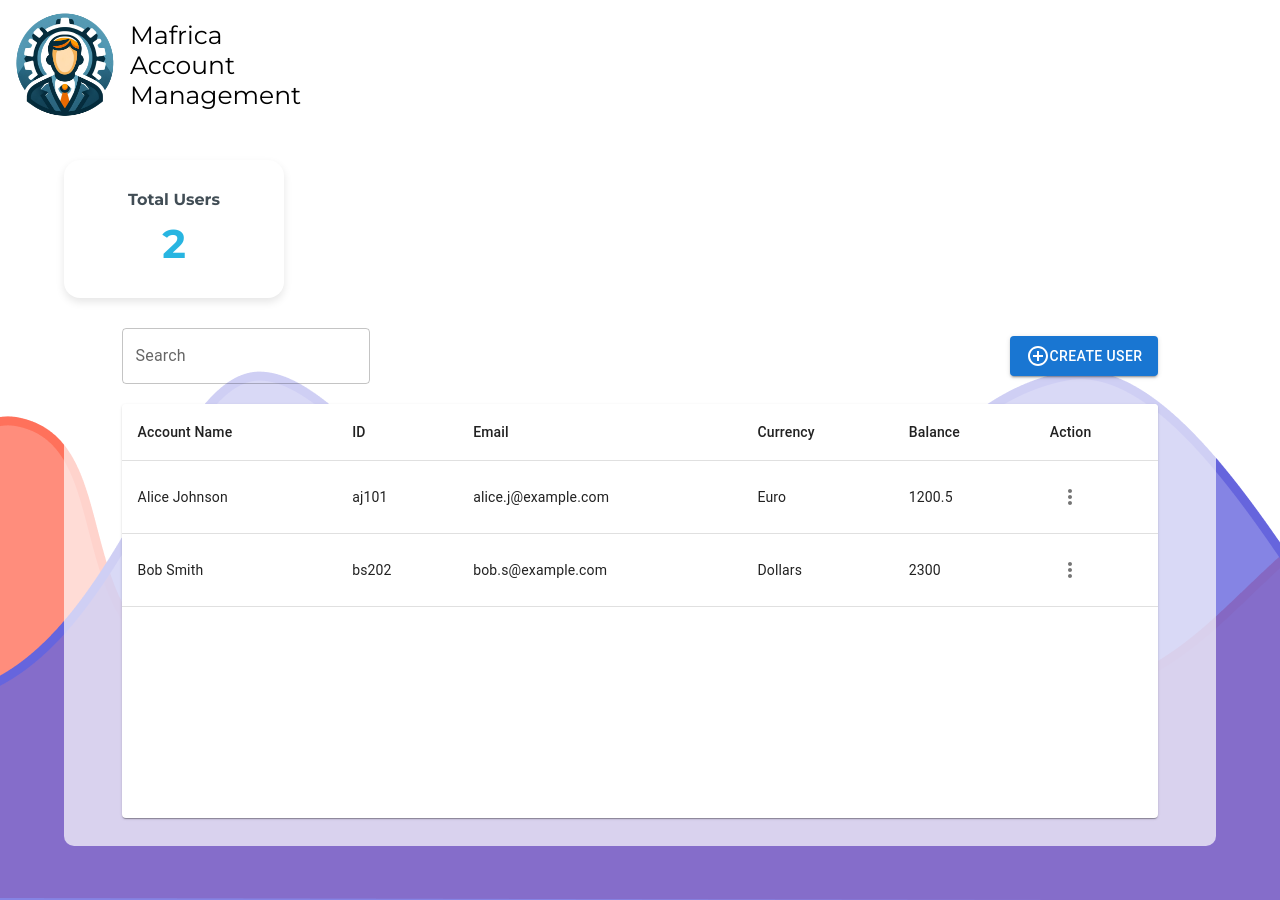
Test: <App /> › should open action menu modal when action button is clicked and edit modal when edit button is clicked
Expected: the text "Alice Johnson" is shown, [122,461,336,534]
Click the button without text in the row of "Alice Johnson".
click(1070, 497)  # box [1050,477,1090,517]
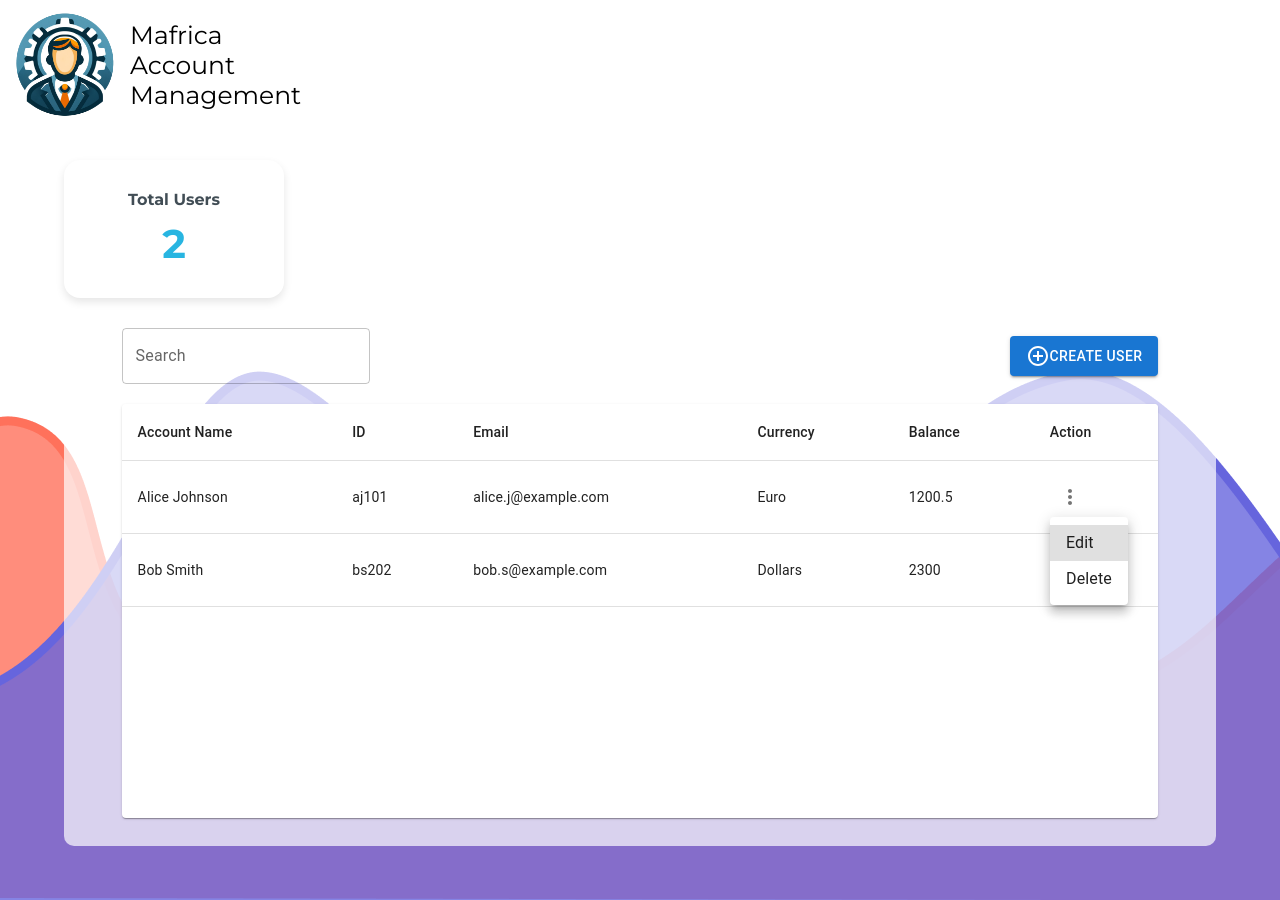
Expected: the element with test id "ActionMenuModal" is shown, [1050,517,1128,605]
Click the menu item with test id "ActionMenuModalEditButton".
click(1089, 543)  # box [1050,525,1128,561]
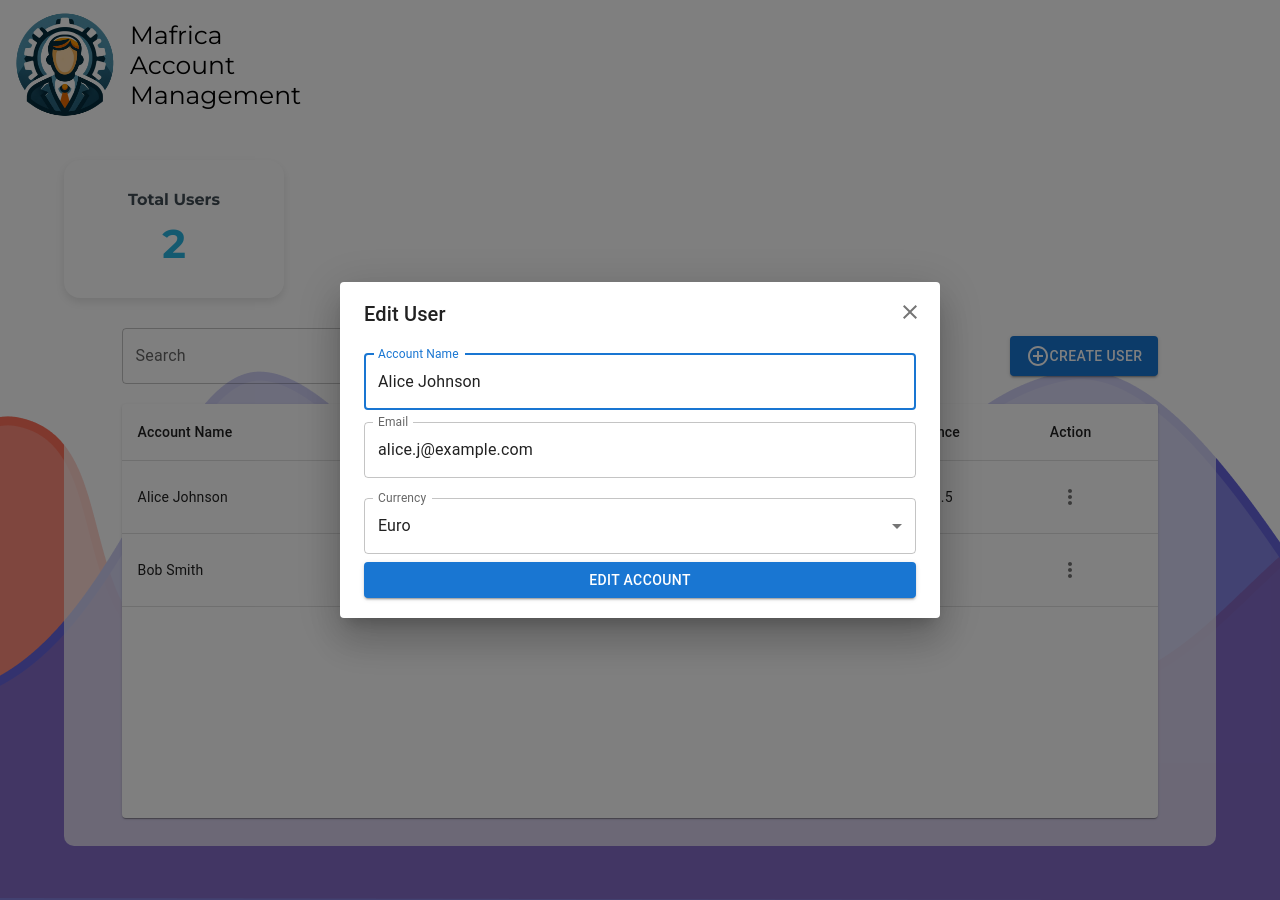
Expected: the element with test id "CreateEditUserModal" is shown
